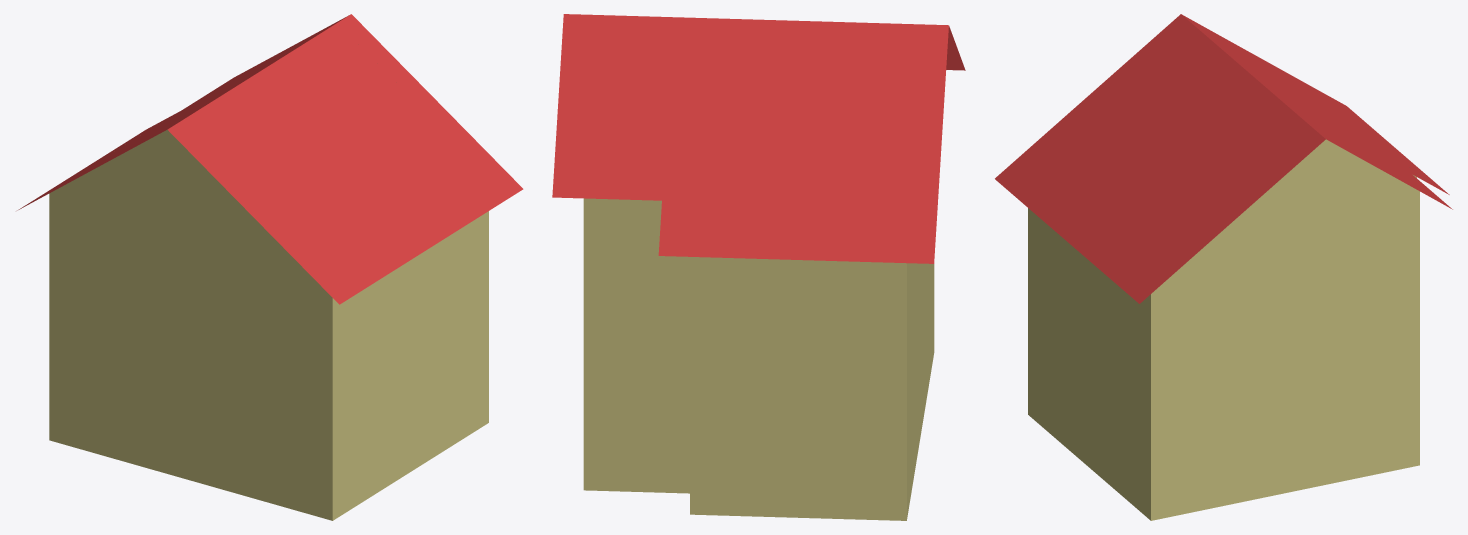
3 views of the same model, side by side, from view 1: azimuth 30°, elevation 25°; view 2: azimuth 150°, elevation 25°; view 3: azimuth 270°, elevation 25° (orthographic). The views are drawn at different scales.
Parts seen in each view (by area): view 1: group_5, group_3, group_4; view 2: group_5, group_3, group_4; view 3: group_5, group_3, group_4.
Part boxes in pixels (x1,y1,x2,y2): group_5: (49,129,488,520); group_3: (17,15,494,304); group_4: (96,14,523,302); group_5: (583,198,934,520); group_3: (552,14,957,263); group_4: (556,24,965,258); group_5: (1028,139,1419,520); group_3: (995,14,1452,301); group_4: (995,15,1449,303).
Bounding box in the file's own units: 14.01 × 13.71 × 11.78.
